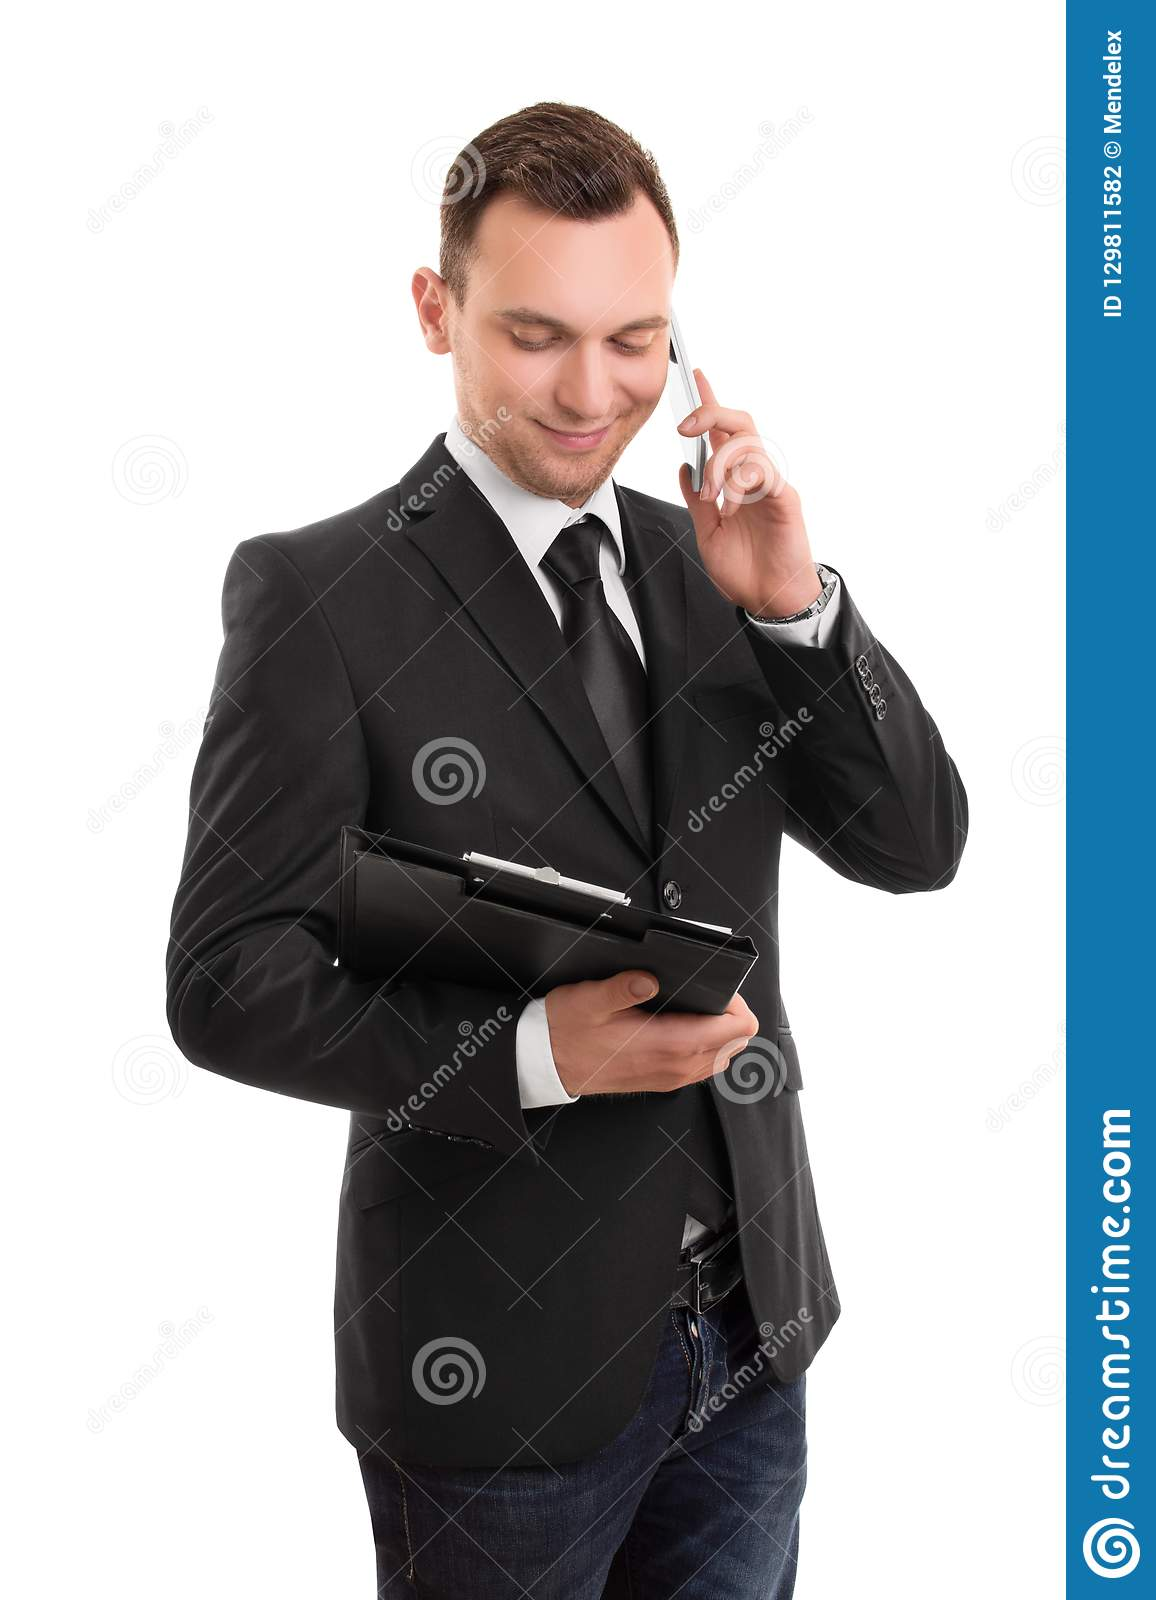phone: (664, 298, 713, 506)
talk: (487, 281, 812, 612)
